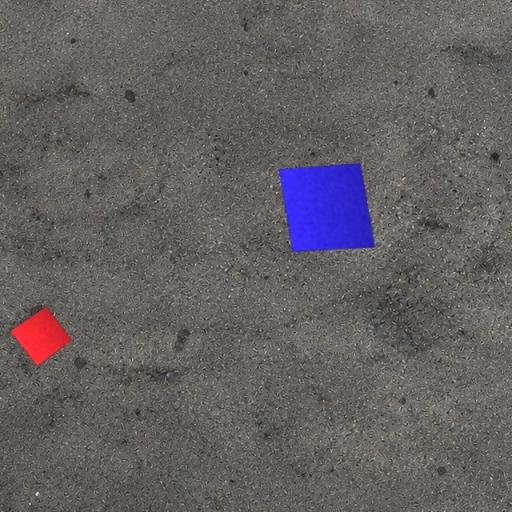BLUE_SQUARE: (278, 163, 376, 253)
RED_SQUARE: (10, 306, 72, 367)
